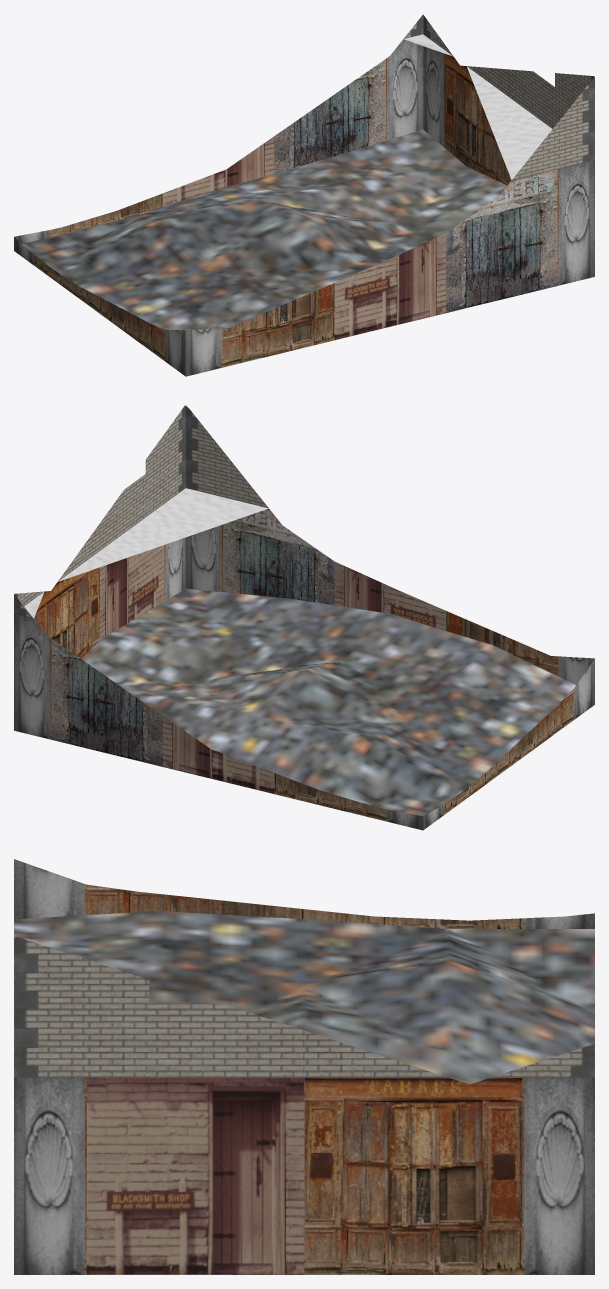
The model's file is House_011_destroyed_002.dae.
3 renders of one model, top to bottom at view 1: azimuth 30°, elevation 25°; view 2: azimuth 150°, elevation 25°; view 3: azimuth 270°, elevation 25°, orthographic. The views are drawn at different scales.
Visible parts, largest first — view 1: House_011; view 2: House_011; view 3: House_011.
Boxes of the visible parts, box(x1,y1,x2,y2) form: House_011: box(14, 14, 594, 376); House_011: box(14, 405, 594, 830); House_011: box(14, 859, 594, 1274).
Size of the model in its own units: 88 by 64 by 41.1.
Materials: 1 (1 with a texture image).
